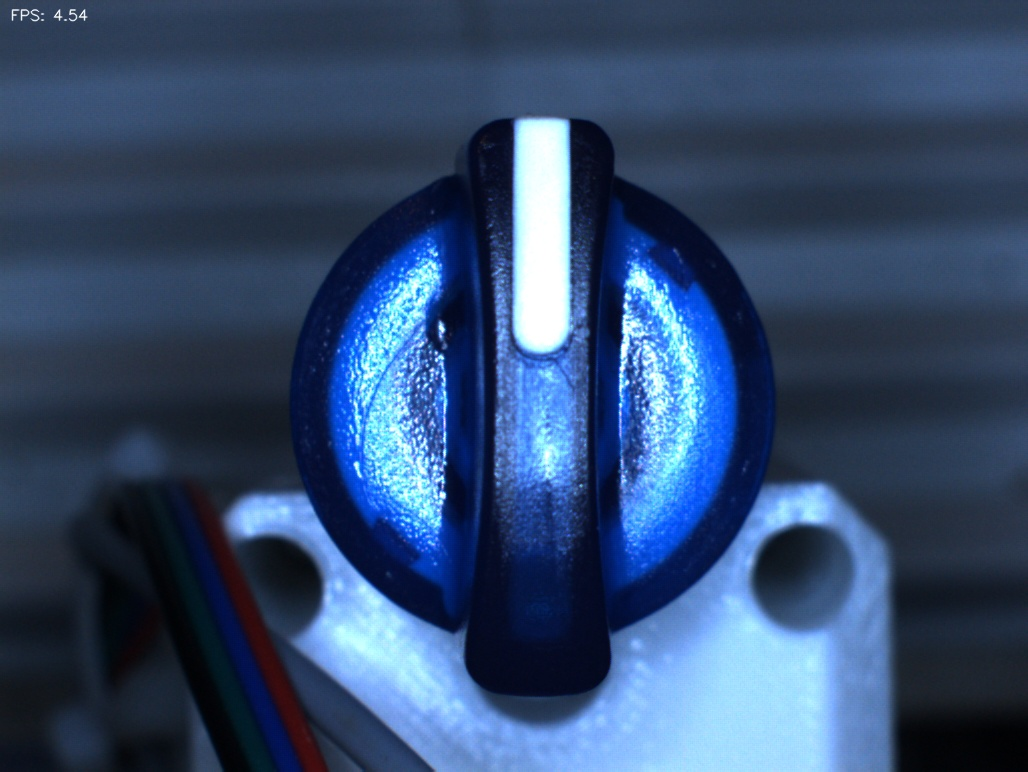Choc: (405, 281, 479, 355)
